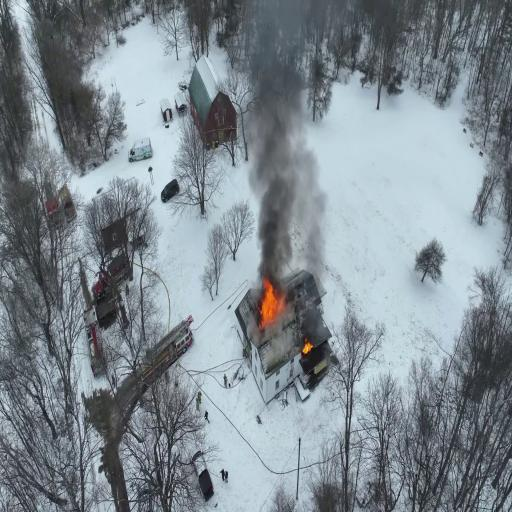fire: (263, 286, 284, 333), (304, 343, 313, 354)
smoke: (266, 153, 287, 283)
